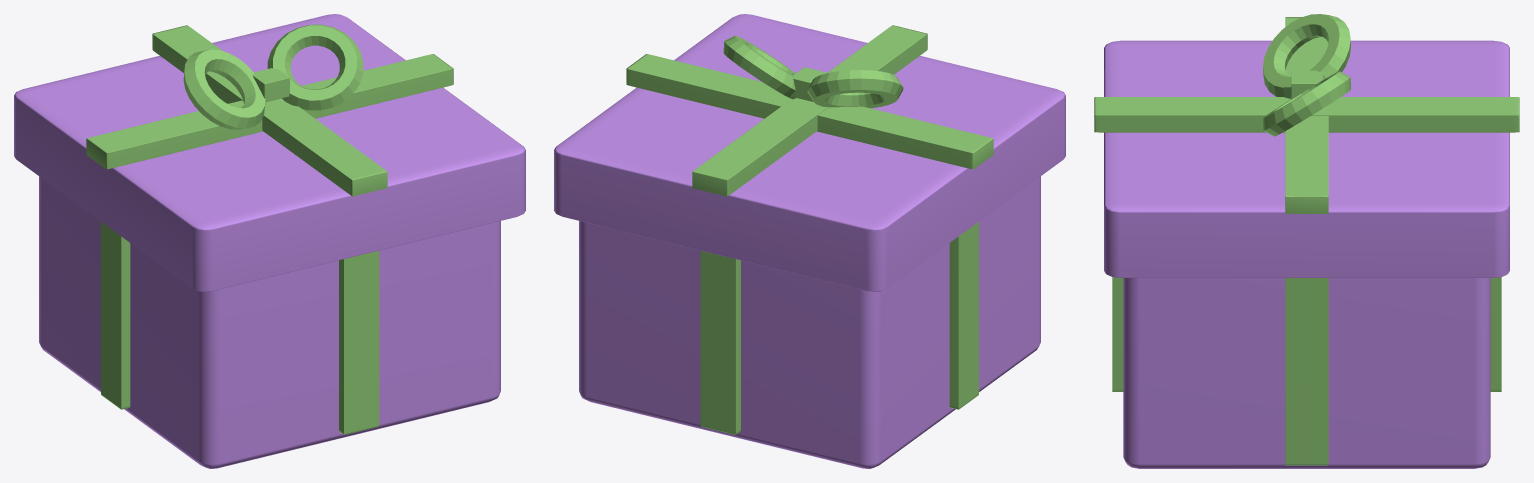
The model's file is gift-box.glb.
3 views of the same model, side by side, from view 1: azimuth 30°, elevation 25°; view 2: azimuth 150°, elevation 25°; view 3: azimuth 270°, elevation 25° (orthographic). The views are drawn at different scales.
Visible parts, largest first — view 1: purple lid, purple lower box, top ribbon x, top ribbon y, vertical ribbon front, vertical ribbon left, right bow loop, left bow loop, bow knot; view 2: purple lid, purple lower box, top ribbon x, top ribbon y, vertical ribbon back, vertical ribbon left, left bow loop, right bow loop, bow knot; view 3: purple lid, purple lower box, top ribbon y, vertical ribbon right, top ribbon x, left bow loop, right bow loop, vertical ribbon back, vertical ribbon front, bow knot.
Boxes of the visible parts, x1,y1,x2,y2 form: purple lid: [14, 14, 525, 291]; purple lower box: [39, 176, 500, 468]; top ribbon x: [86, 54, 453, 169]; top ribbon y: [152, 25, 387, 196]; vertical ribbon front: [339, 250, 379, 434]; vertical ribbon left: [101, 222, 130, 409]; right bow loop: [267, 24, 363, 110]; left bow loop: [183, 49, 265, 129]; bow knot: [252, 68, 289, 102]; purple lid: [554, 14, 1065, 291]; purple lower box: [579, 176, 1040, 468]; top ribbon x: [626, 54, 993, 169]; top ribbon y: [692, 25, 927, 196]; vertical ribbon back: [700, 250, 740, 434]; vertical ribbon left: [949, 222, 978, 409]; left bow loop: [807, 70, 903, 108]; right bow loop: [723, 35, 795, 99]; bow knot: [790, 67, 827, 101]; purple lid: [1104, 40, 1509, 277]; purple lower box: [1123, 278, 1490, 468]; top ribbon y: [1094, 97, 1519, 132]; vertical ribbon right: [1285, 278, 1328, 465]; top ribbon x: [1285, 17, 1328, 213]; left bow loop: [1263, 14, 1350, 98]; right bow loop: [1263, 71, 1350, 136]; vertical ribbon back: [1490, 277, 1501, 391]; vertical ribbon front: [1112, 277, 1123, 391]; bow knot: [1291, 70, 1322, 98].
Size of the model in its own units: 0.88 by 0.7949 by 0.88.
